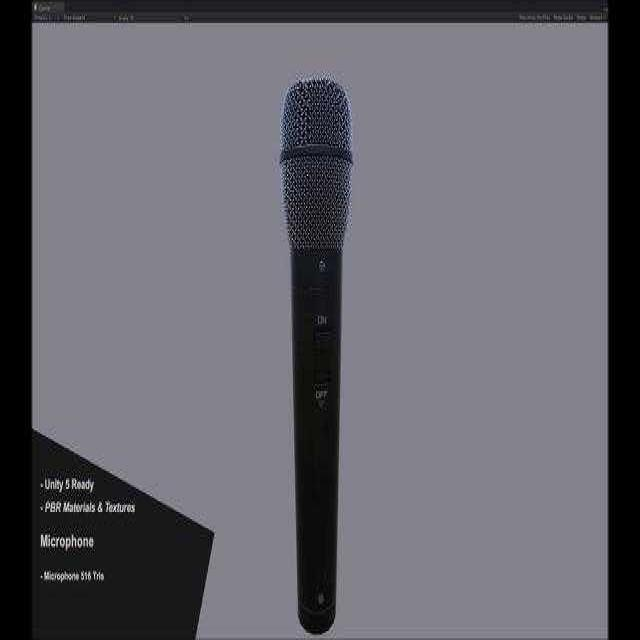microphone: (276, 70, 357, 634)
